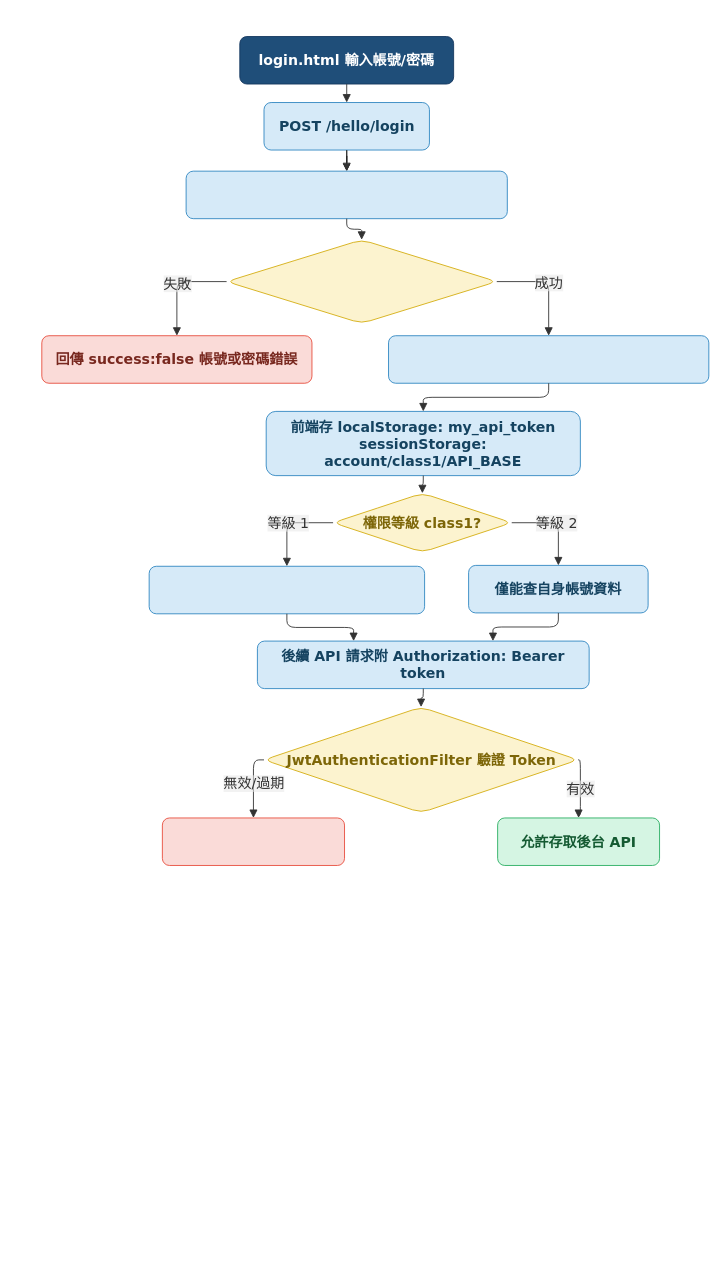
The diagram is 725 pixels wide and 1271 high, and some of its shapes have lost their labels. Each missing label, with the centre of its shape:
"BCrypt 比對密碼 checkPassword" belongs at (x=361, y=281).
"jwtUtility.generateToken 產生 JWT 10分鐘" belongs at (x=548, y=359).
"回傳 401 請重新登入" belongs at (x=253, y=841).
"查詢 admin_registration 該帳號密碼雜湊值" belongs at (x=346, y=194).
"進入 superadmin 可管理所有管理員" belongs at (x=286, y=589).
